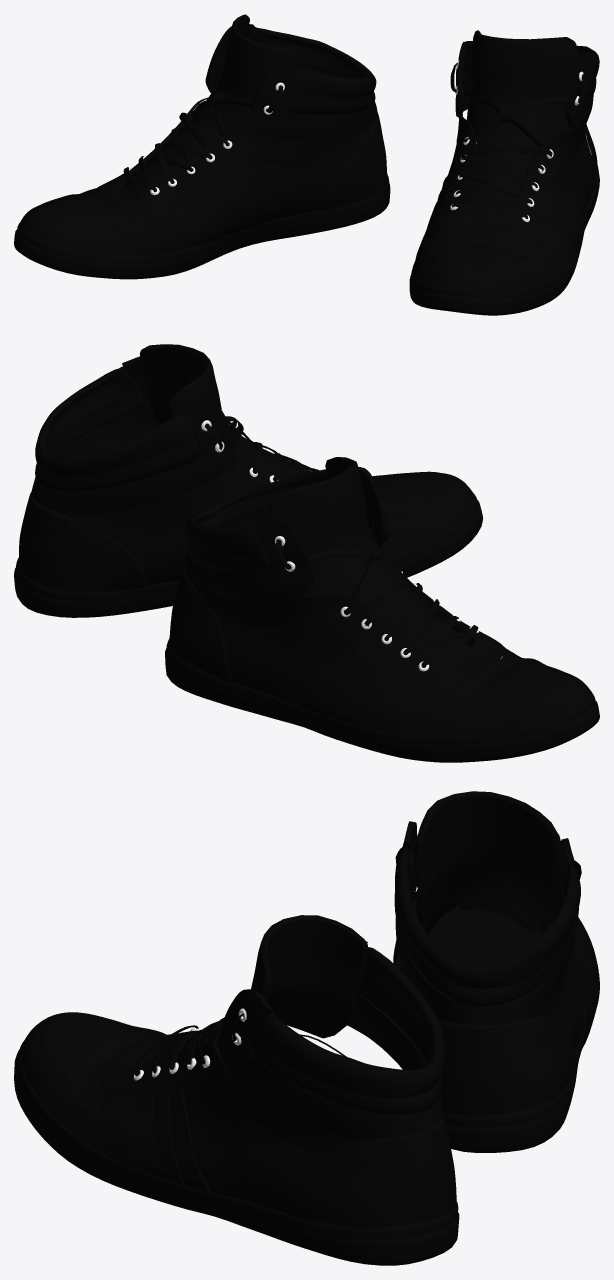
The model's file is leather_shoes_1_tex2.glb.
3 renders of one model, top to bottom at view 1: azimuth 30°, elevation 25°; view 2: azimuth 150°, elevation 25°; view 3: azimuth 270°, elevation 25°, orthographic. The views are drawn at different scales.
Visible parts, largest first — view 1: Plane050; view 2: Plane050; view 3: Plane050.
Boxes of the visible parts, x1,y1,x2,y2 form: Plane050: [14, 14, 599, 315]; Plane050: [14, 344, 599, 762]; Plane050: [14, 791, 599, 1265].
Bounding box in the file's own units: 3.63 × 1.29 × 2.55.
Materials: 1 (1 with a texture image).
